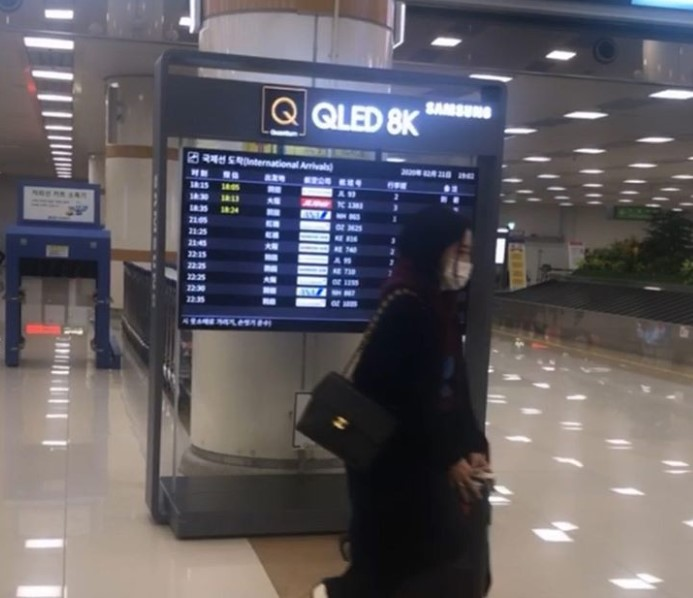face_with_mask: (395, 205, 483, 299)
